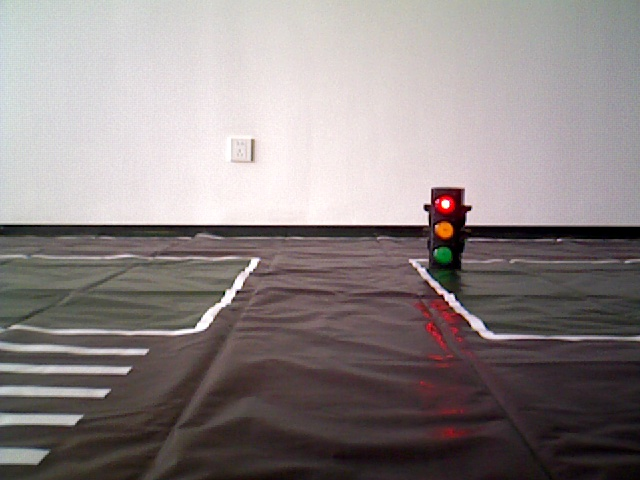red: (432, 188, 459, 269)
